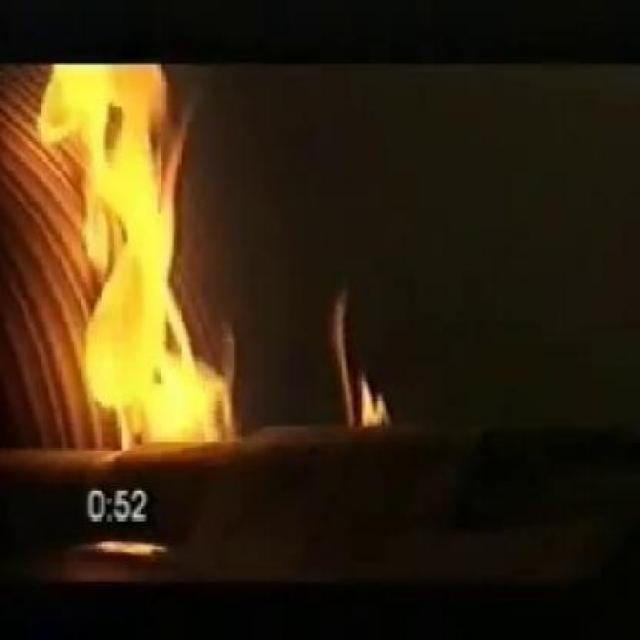fire: (29, 64, 242, 442)
